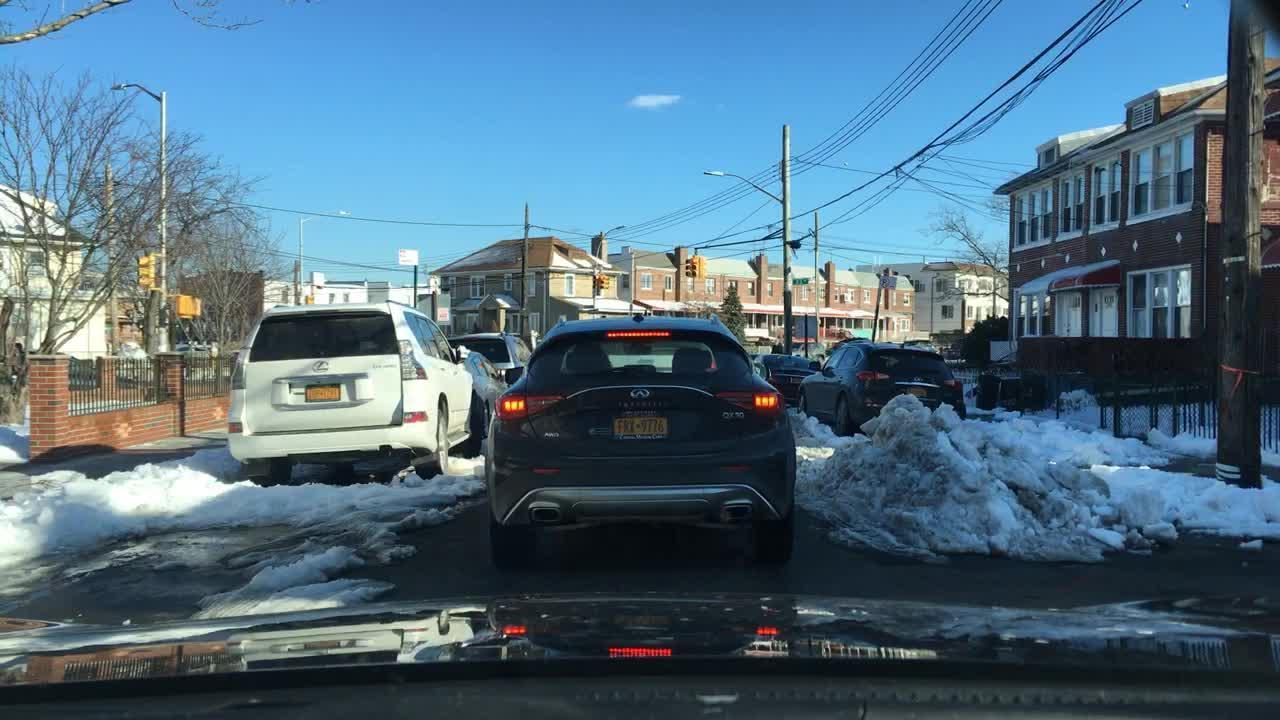Infiniti: (630, 387, 655, 401)
